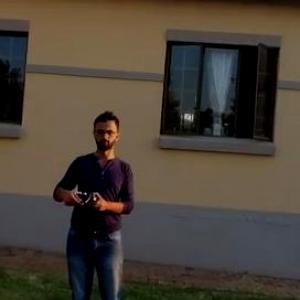follow: (44, 105, 141, 299)
